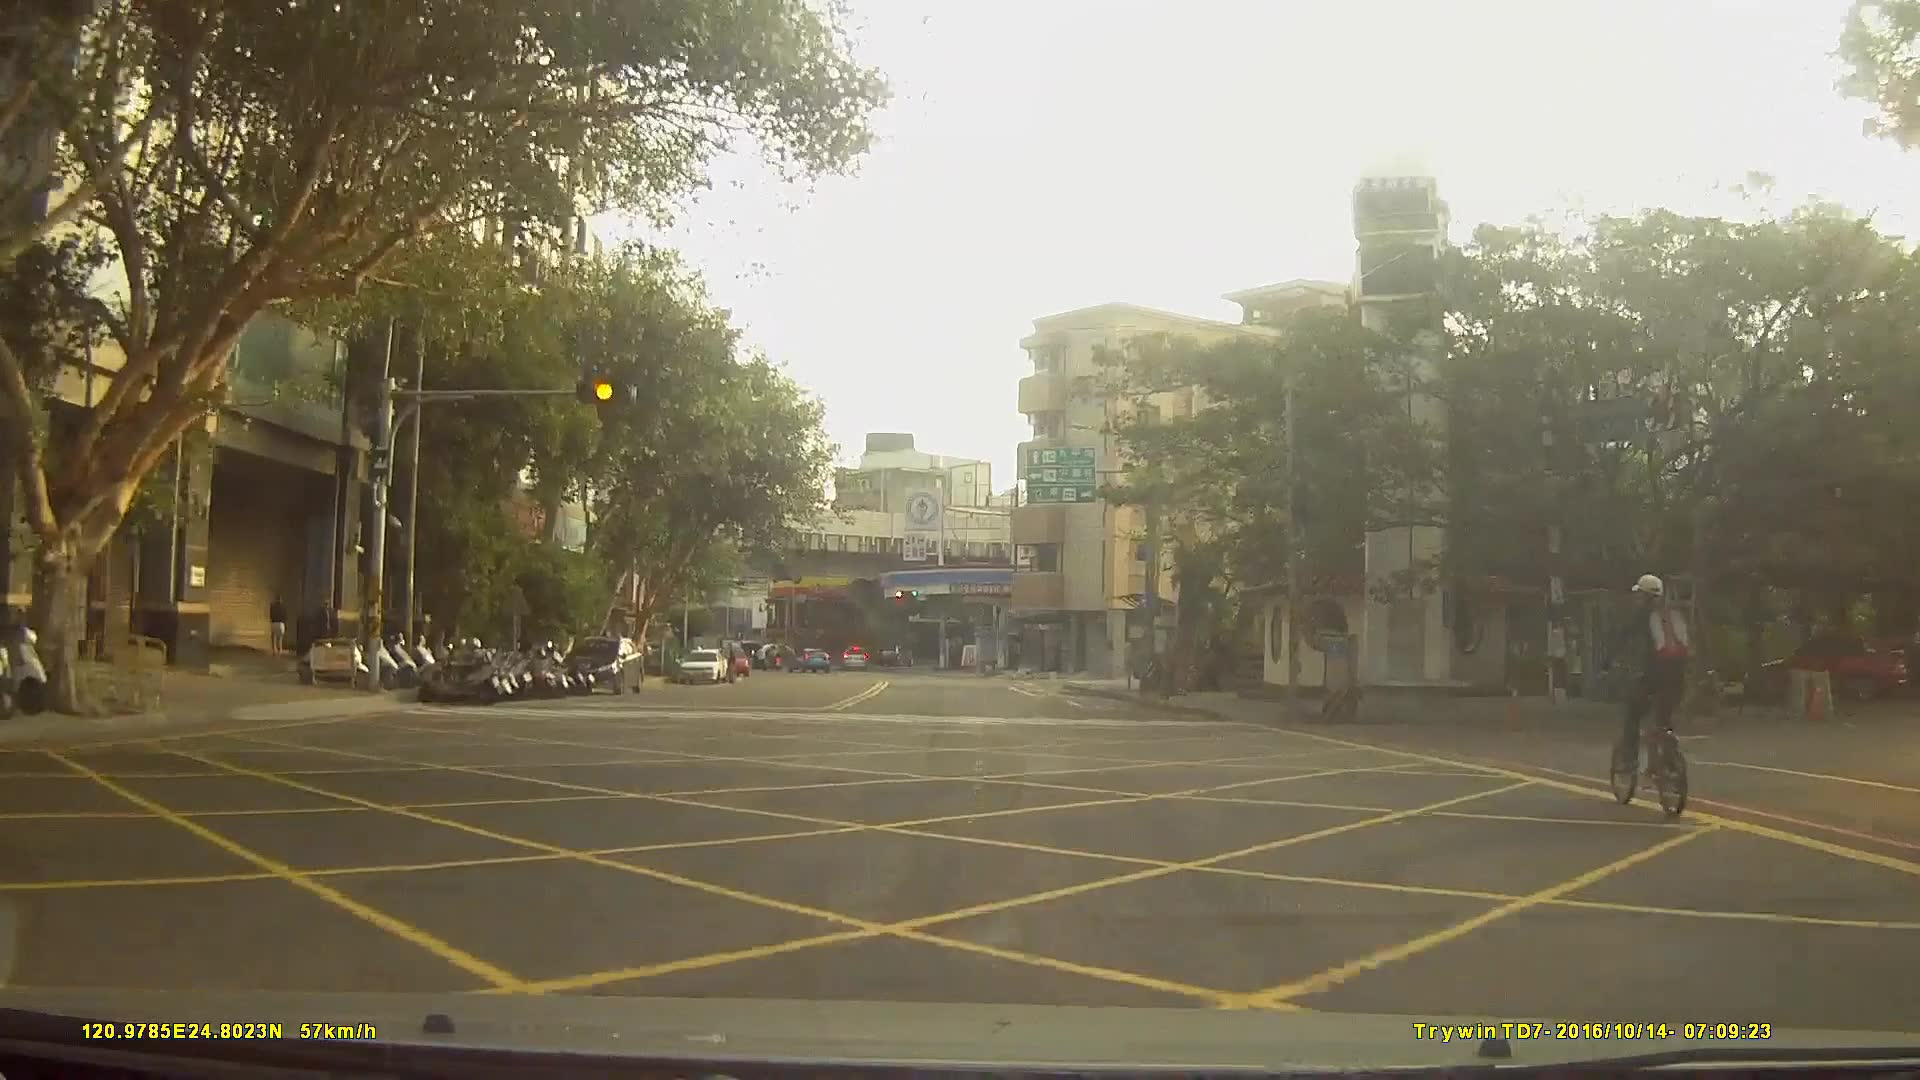pedestrian: (268, 597, 289, 658)
rider: (1595, 574, 1696, 823)
vehicle: (1745, 626, 1909, 703), (561, 635, 643, 695), (677, 646, 728, 684), (789, 643, 829, 671), (840, 644, 869, 672)
